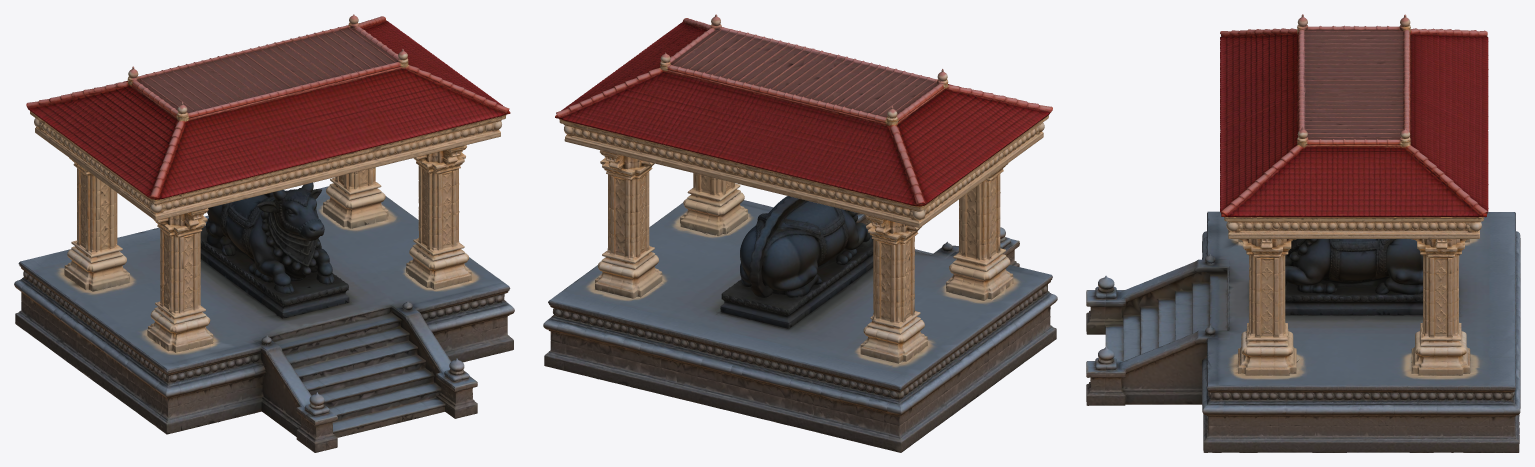
The model's file is nandi.glb.
3 renders of one model, left to right at view 1: azimuth 30°, elevation 25°; view 2: azimuth 150°, elevation 25°; view 3: azimuth 270°, elevation 25°, orthographic. The views are drawn at different scales.
Visible parts, largest first — view 1: tripo_node_16b73997-3212-407d-a541-d48e3df051c7; view 2: tripo_node_16b73997-3212-407d-a541-d48e3df051c7; view 3: tripo_node_16b73997-3212-407d-a541-d48e3df051c7.
Part boxes in pixels (x1,y1,x2,y2): tripo_node_16b73997-3212-407d-a541-d48e3df051c7: (14,14,514,452); tripo_node_16b73997-3212-407d-a541-d48e3df051c7: (543,14,1057,452); tripo_node_16b73997-3212-407d-a541-d48e3df051c7: (1086,14,1520,452).
Bounding box in the file's own units: 0.976 × 0.7341 × 0.9799.
Materials: 1 (1 with a texture image).
